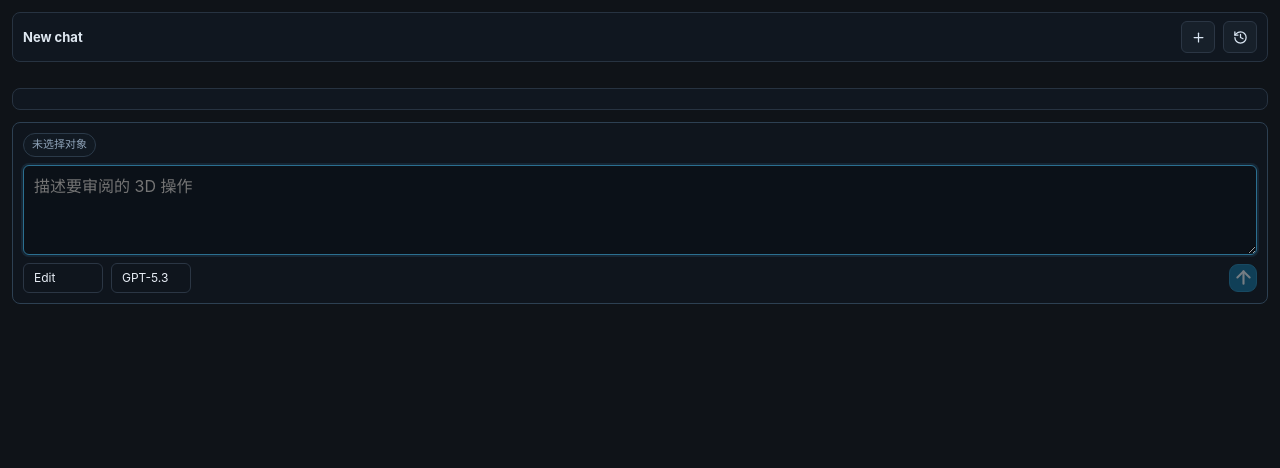
Test: AgentPanel › shows sent user requests as labeled chat pills and stacks agent replies below their label
Type "解释当前场景" into the text box named "AI 指令输入" at (640, 210), box [23,165,1257,255]
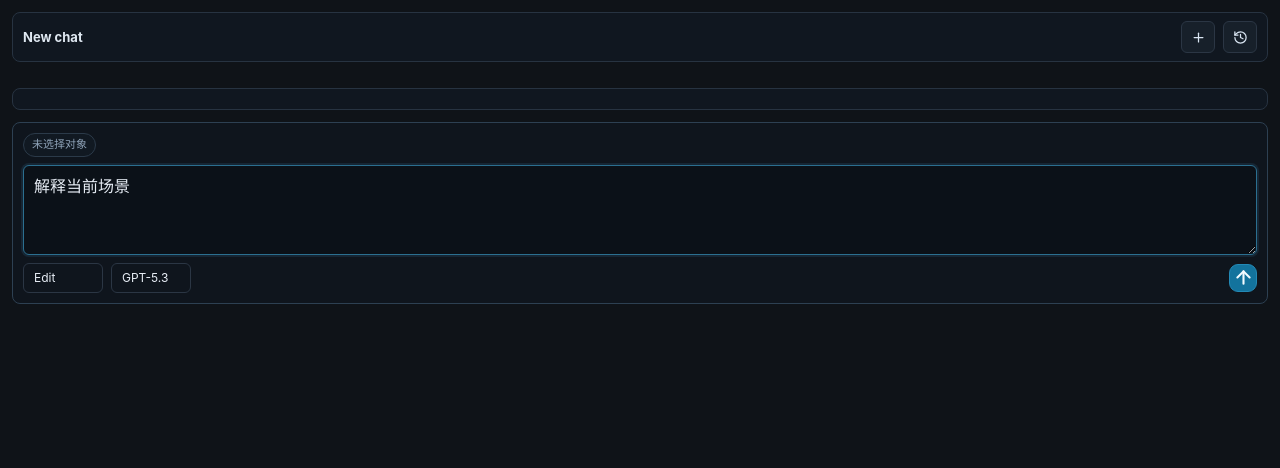
Click the button named "发送指令" at (1243, 278), box [1229,264,1257,292]
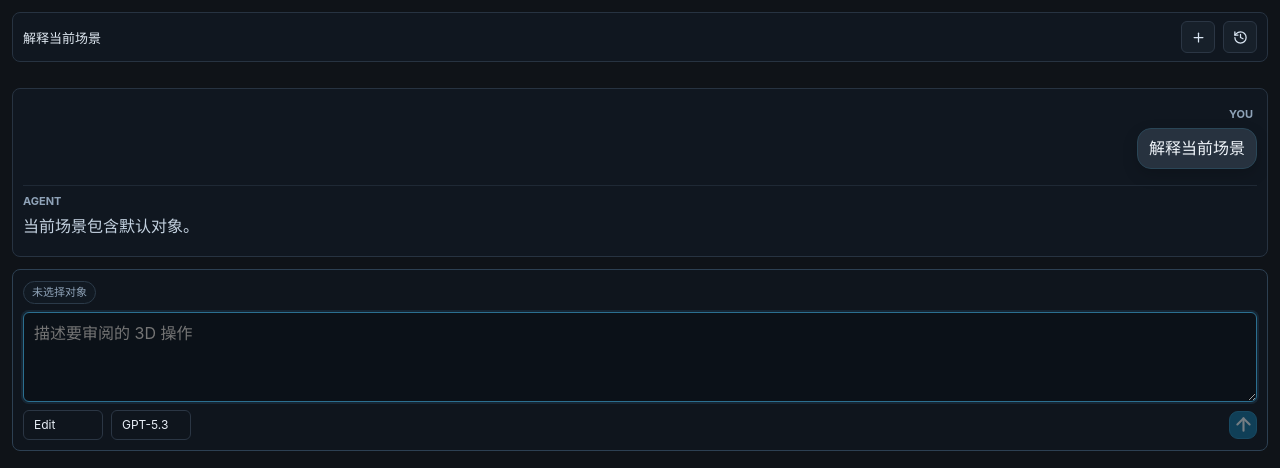
Check: the text "解释当前场景" below "You" is shown, box [1149,138,1245,158]
Check: the text "You" is shown, box [1229,107,1257,121]
Check: the text "Agent" is shown, box [23,194,61,208]
